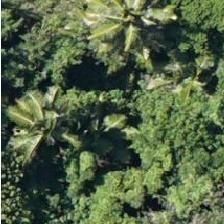Kelapa_Sawit: (0, 81, 88, 171), (94, 0, 184, 54)
